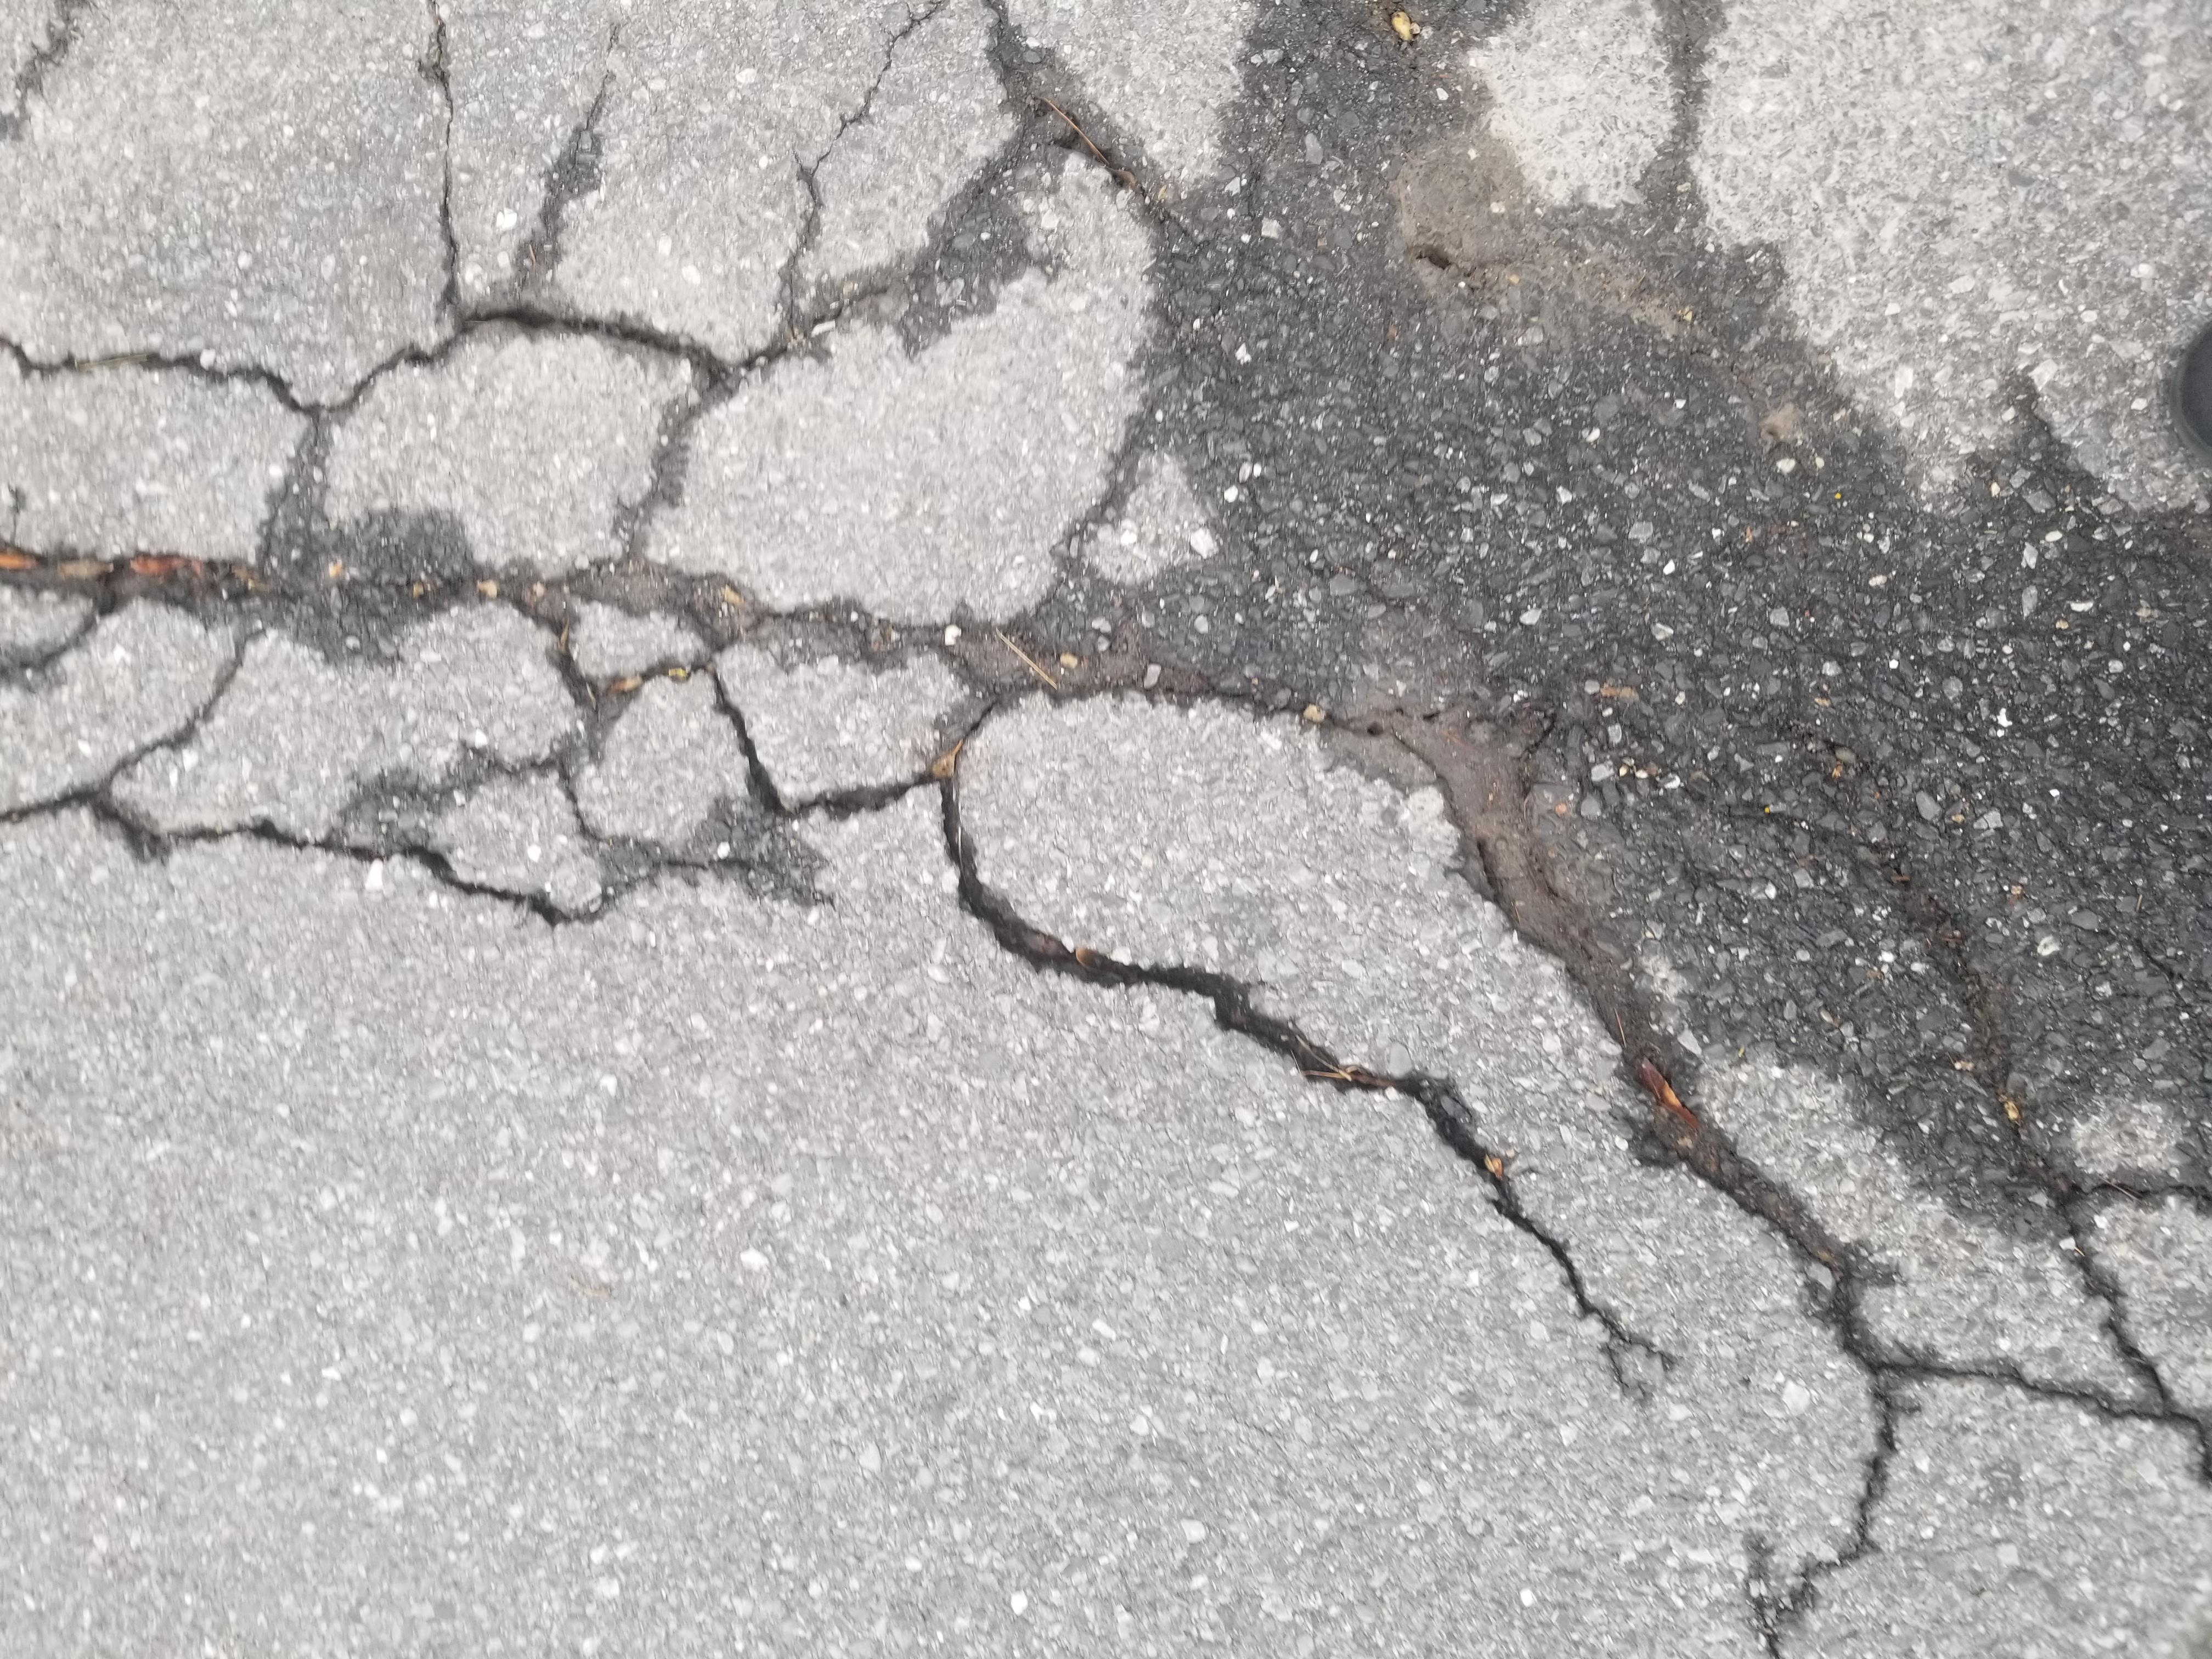alligator-crack: (52, 17, 2151, 1647)
